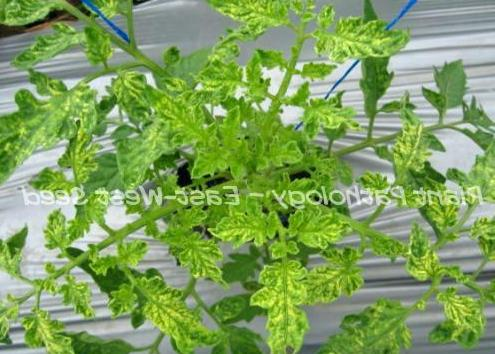Tomato leaf yellow virus: (0, 80, 80, 198), (141, 86, 241, 171), (129, 286, 234, 354), (307, 293, 413, 354), (311, 5, 408, 71), (258, 257, 310, 354), (159, 210, 225, 285), (8, 24, 96, 71), (184, 0, 297, 36), (382, 123, 438, 190), (119, 112, 169, 180), (302, 256, 368, 307), (25, 305, 86, 354), (0, 222, 43, 287), (430, 296, 483, 348), (459, 133, 495, 205), (286, 208, 348, 249), (211, 207, 272, 248), (403, 222, 441, 283), (304, 97, 359, 137), (39, 211, 77, 259), (469, 208, 495, 269)
